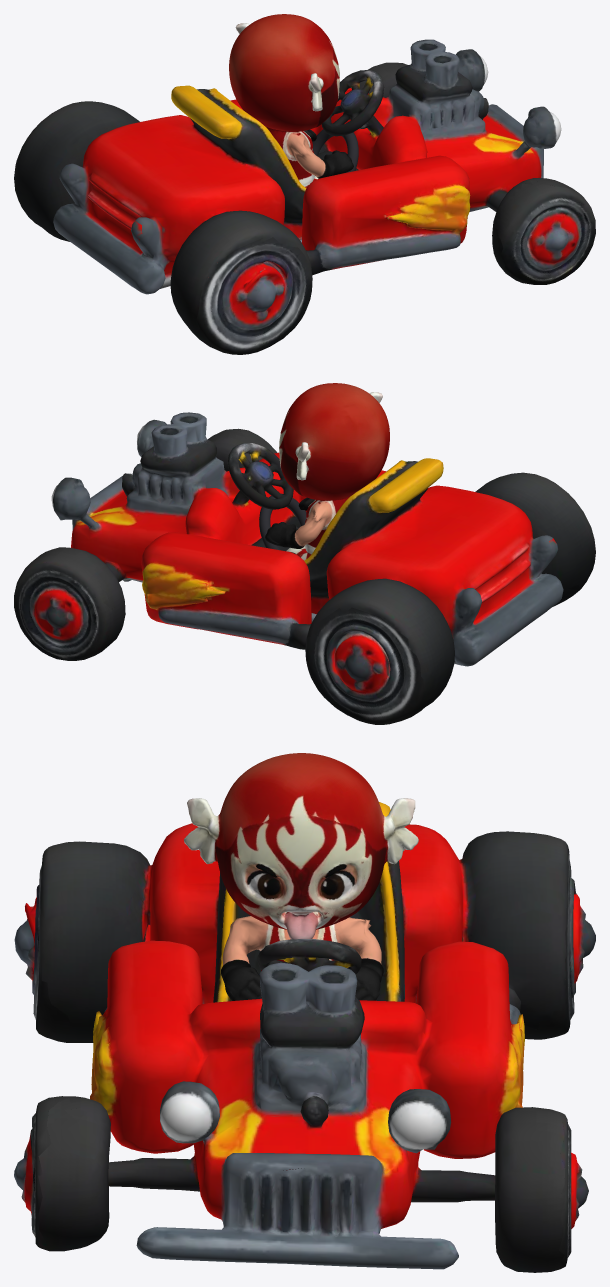
The model's file is kart-picante.glb.
3 renders of one model, top to bottom at view 1: azimuth 30°, elevation 25°; view 2: azimuth 150°, elevation 25°; view 3: azimuth 270°, elevation 25°, orthographic. The views are drawn at different scales.
Visible parts, largest first — view 1: body, pilot, wheel_RR, wheel_FR; view 2: body, pilot, wheel_RL, wheel_FL; view 3: body, pilot, wheel_RR, wheel_RL, wheel_FR, wheel_FL.
Boxes of the visible parts, x1,y1,x2,y2 form: body: (14,39,590,337); pilot: (229,14,353,187); wheel_RR: (180,237,312,354); wheel_FR: (492,178,595,284); body: (15,412,595,705); pilot: (265,383,389,560); wheel_RL: (306,607,434,724); wheel_FL: (14,562,112,660); body: (38,802,568,1272); pilot: (184,753,418,1000); wheel_RR: (14,858,93,1042); wheel_RL: (524,851,595,1039); wheel_FR: (14,1096,86,1250); wheel_FL: (551,1109,588,1269).
Size of the model in its own units: 1.95 by 1.07 by 1.53.
3 materials, 2 textured.
